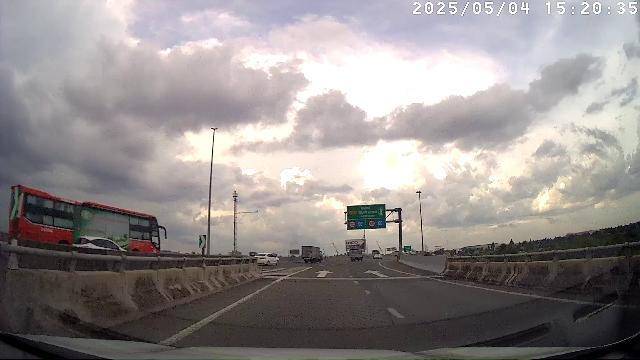127-toc-do-toi-da-100: (348, 221, 356, 228), (368, 220, 376, 226)
306-toc-do-toi-thieu-60: (356, 221, 364, 228), (378, 220, 384, 226)
437-bat-dau-duong-cao-toc: (378, 207, 384, 215)
